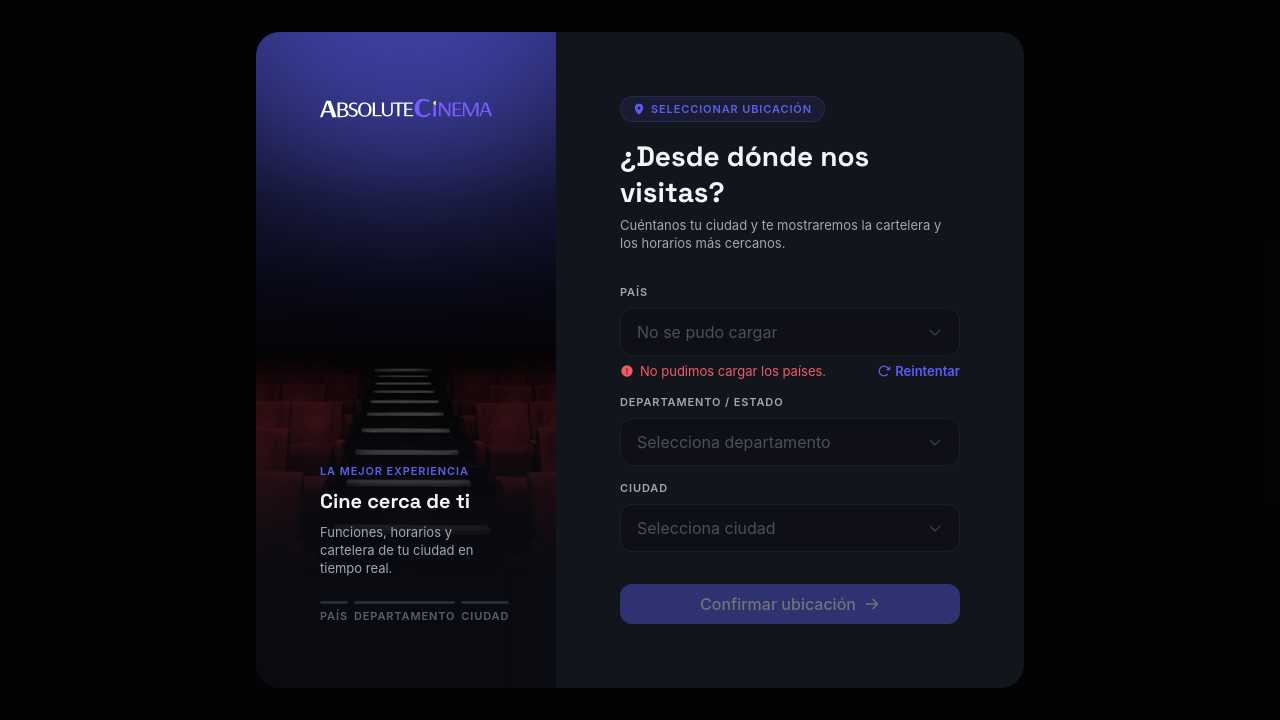
Test: LocationWizardModal › shows an error with a retry action and recovers after retrying
The width and height of the screenshot is (1280, 720).
expect the text "No pudimos cargar los países." is shown: met, box [620,362,826,380]
expect the dropdown named "País" is disabled: met, box [620,308,960,356]
Step 1. Click the button "Reintentar" → (919, 371), box [877,362,960,380]
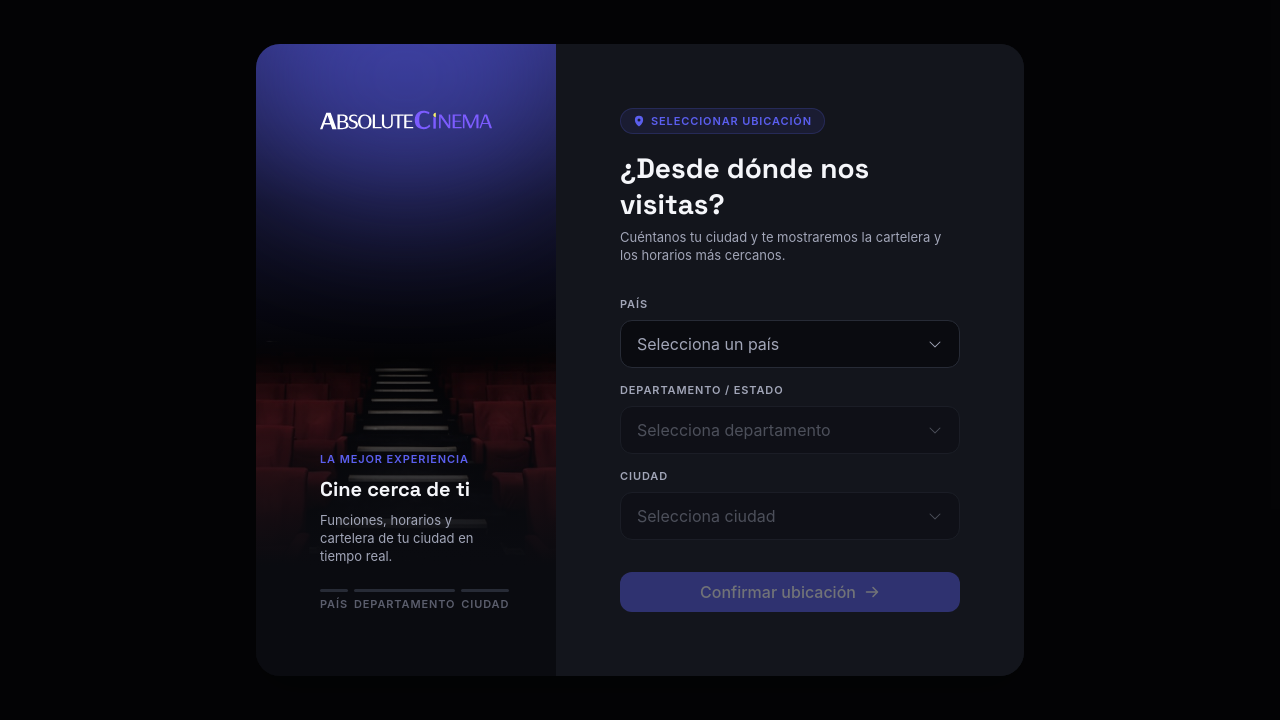
expect the dropdown labelled "país" is enabled: met, box [620,320,960,368]
expect the text "No pudimos cargar los países." is gone: met
